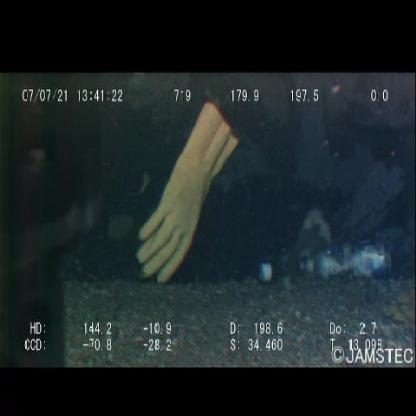Rác: (256, 246, 305, 297)
